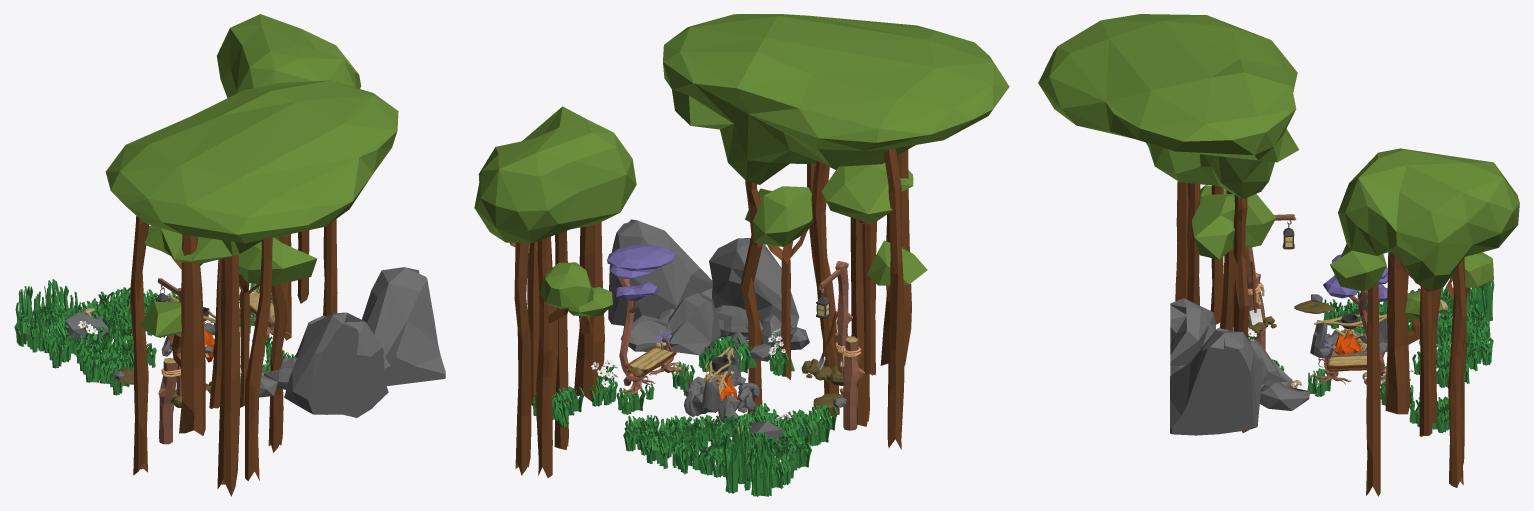
The model's file is Sketchfab_2018_04_04_02_53_38.fbx.
The picture shows the model from 3 angles, left to right: view 1: azimuth 30°, elevation 25°; view 2: azimuth 150°, elevation 25°; view 3: azimuth 270°, elevation 25°; orthographic projection. The views are drawn at different scales.
Parts seen in each view (by area): view 1: Mball.010, Icosphere.028, Mball.000, Icosphere.027, Cylinder.009, Cylinder.010, Cylinder.006, Cylinder.007, Cylinder.011, Cylinder.004, LanternLargeStem.001, Cylinder.008 (+6 smaller); view 2: Mball.010, Mball.000, Icosphere.027, Cylinder.006, Icosphere.028, Cylinder.002, Cylinder.001, Cylinder.005, Mball.011, Icosphere.006, Cylinder.010, Cylinder.012 (+17 smaller); view 3: Mball.010, Mball.000, Icosphere.027, Cylinder.001, Cylinder.005, Cylinder.004, Icosphere.028, Cylinder.003, Cylinder.011, Mball.011, Cylinder.010, Cylinder.007 (+9 smaller).
Part boxes in pixels (x1,y1,x2,y2): Mball.010: (105, 80, 398, 336); Icosphere.028: (284, 312, 388, 417); Mball.000: (217, 14, 360, 97); Icosphere.027: (362, 267, 445, 387); Cylinder.009: (168, 234, 205, 435); Cylinder.010: (217, 254, 240, 496); Cylinder.006: (130, 216, 149, 475); Cylinder.007: (245, 238, 272, 480); Cylinder.011: (268, 236, 287, 452); Cylinder.004: (323, 219, 337, 316); LanternLargeStem.001: (158, 358, 177, 444); Cylinder.008: (239, 274, 260, 407); Mball.010: (663, 14, 1009, 285); Mball.000: (474, 106, 636, 242); Icosphere.027: (608, 219, 712, 325); Cylinder.006: (883, 148, 904, 449); Icosphere.028: (709, 238, 799, 340); Cylinder.002: (536, 237, 568, 477); Cylinder.001: (574, 222, 604, 401); Cylinder.005: (514, 242, 531, 475); Mball.011: (540, 262, 612, 316); Icosphere.006: (662, 292, 720, 355); Cylinder.010: (850, 217, 869, 426); Cylinder.012: (811, 161, 837, 368); Mball.010: (1038, 14, 1298, 259); Mball.000: (1330, 148, 1519, 291); Icosphere.027: (1170, 330, 1263, 435); Cylinder.001: (1385, 252, 1419, 414); Cylinder.005: (1448, 259, 1466, 487); Cylinder.004: (1366, 283, 1380, 496); Icosphere.028: (1170, 298, 1215, 375); Cylinder.003: (1398, 259, 1439, 436); Cylinder.011: (1233, 195, 1249, 432); Mball.011: (1405, 252, 1493, 319); Cylinder.010: (1176, 181, 1188, 300); Cylinder.007: (1186, 183, 1200, 304).
Bounding box in the file's own units: 2467 × 2407 × 2882.
